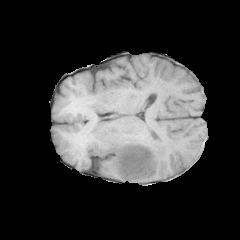glioma: (111, 131, 168, 180)
